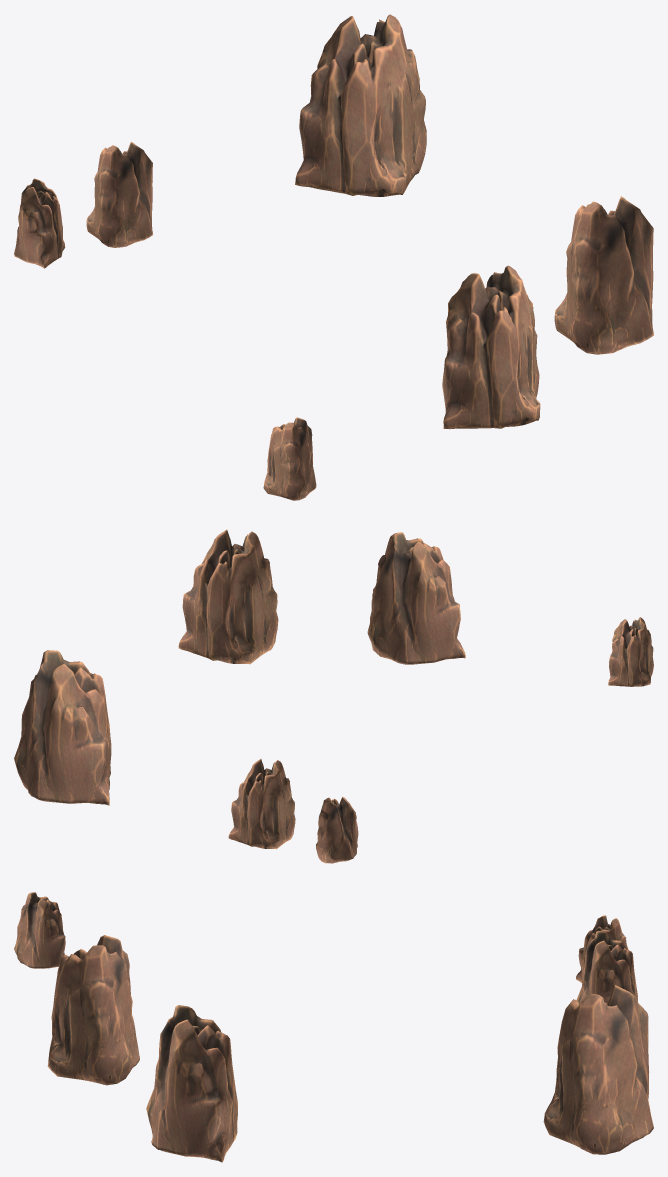
The model's file is Rock_03_Unity.FBX.
The picture shows the model from 3 angles, top to bottom: view 1: azimuth 30°, elevation 25°; view 2: azimuth 150°, elevation 25°; view 3: azimuth 270°, elevation 25°; orthographic projection. The views are drawn at different scales.
Visible parts, largest first — view 1: Rock_03_unity; view 2: Rock_03_unity; view 3: Rock_03_unity.
Boxes of the visible parts, x1,y1,x2,y2 form: Rock_03_unity: [14, 14, 653, 500]; Rock_03_unity: [14, 529, 653, 863]; Rock_03_unity: [14, 892, 653, 1162].
Size of the model in its own units: 2094 by 683 by 2663.
Materials: 1 (1 with a texture image).
